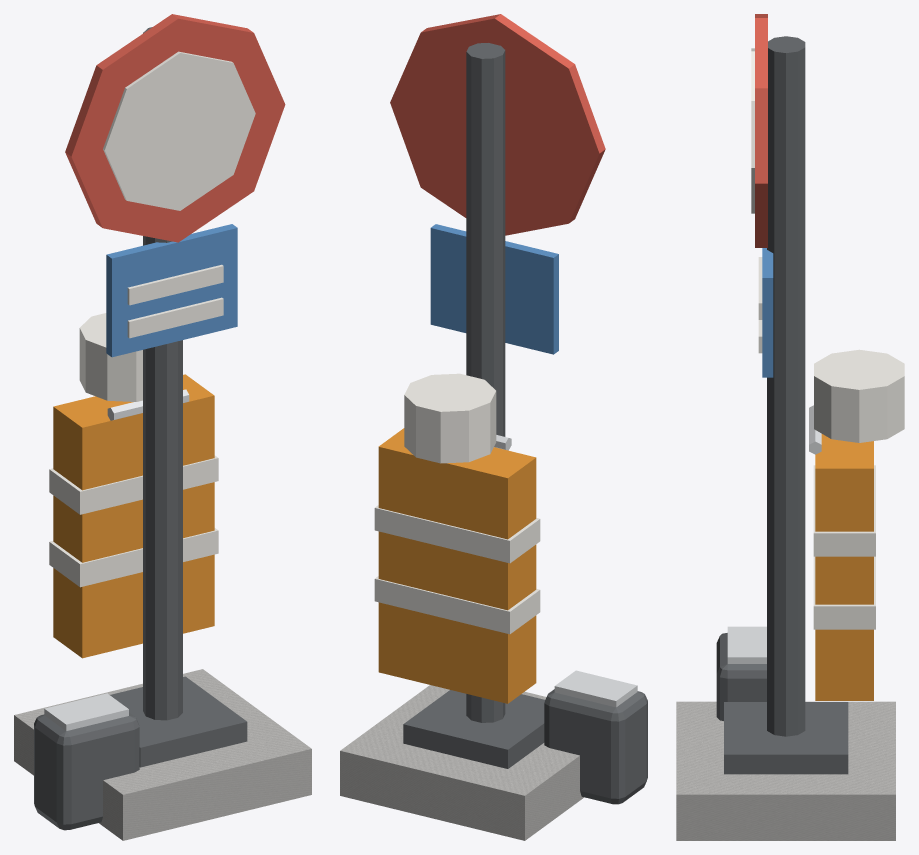
File: demolition-and-site-clearance-demolition-and-site-clea-18f7a16d__35707.glb
3 views of the same model, side by side, from view 1: azimuth 30°, elevation 25°; view 2: azimuth 150°, elevation 25°; view 3: azimuth 270°, elevation 25° (orthographic). The views are drawn at different scales.
Parts seen in each view (by area): view 1: demolition-and-site-clearance-banksman-post-with-sign; view 2: demolition-and-site-clearance-banksman-post-with-sign; view 3: demolition-and-site-clearance-banksman-post-with-sign.
Boxes of the visible parts, x1=… form: demolition-and-site-clearance-banksman-post-with-sign: x1=14, y1=14, x2=311, y2=840; demolition-and-site-clearance-banksman-post-with-sign: x1=340, y1=14, x2=647, y2=840; demolition-and-site-clearance-banksman-post-with-sign: x1=676, y1=14, x2=904, y2=840.
Size of the model in its own units: 0.7701 by 2.34 by 0.6237.
7 materials, 1 textured.
